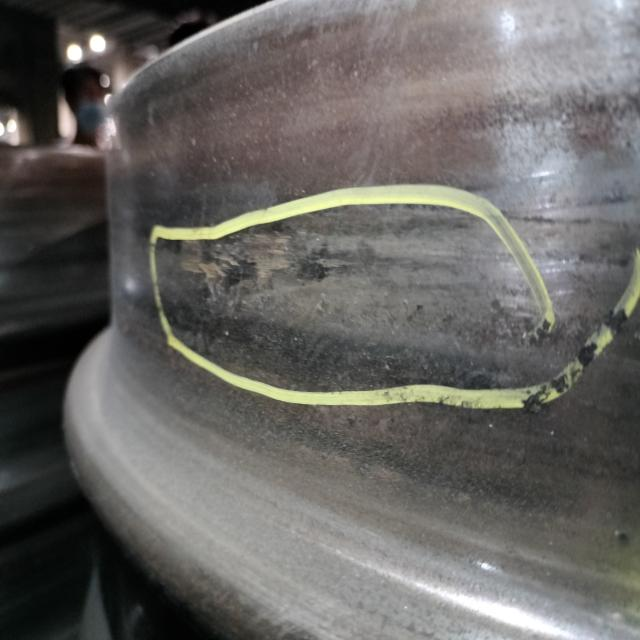flat: (177, 237, 456, 328)
